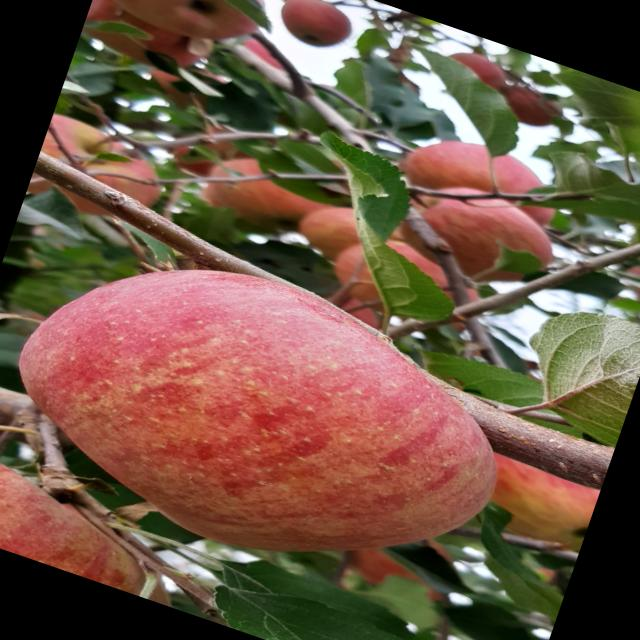fresh: (1, 201, 559, 635)
